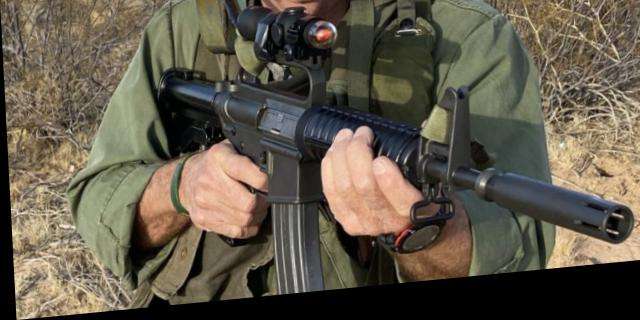other: (69, 0, 552, 308)
